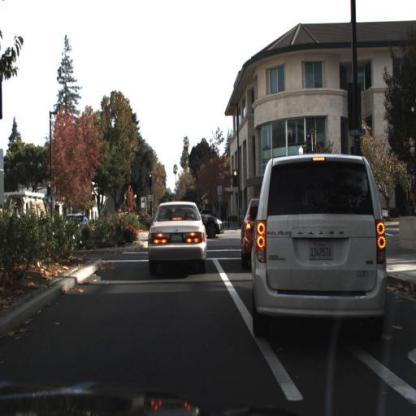car: (248, 152, 393, 346), (146, 201, 209, 280), (241, 197, 261, 271), (196, 208, 229, 239), (68, 212, 93, 240)
pedestrian: (223, 204, 233, 235)
trafficLight-Red: (47, 182, 54, 200), (233, 171, 238, 186), (149, 173, 154, 187)
